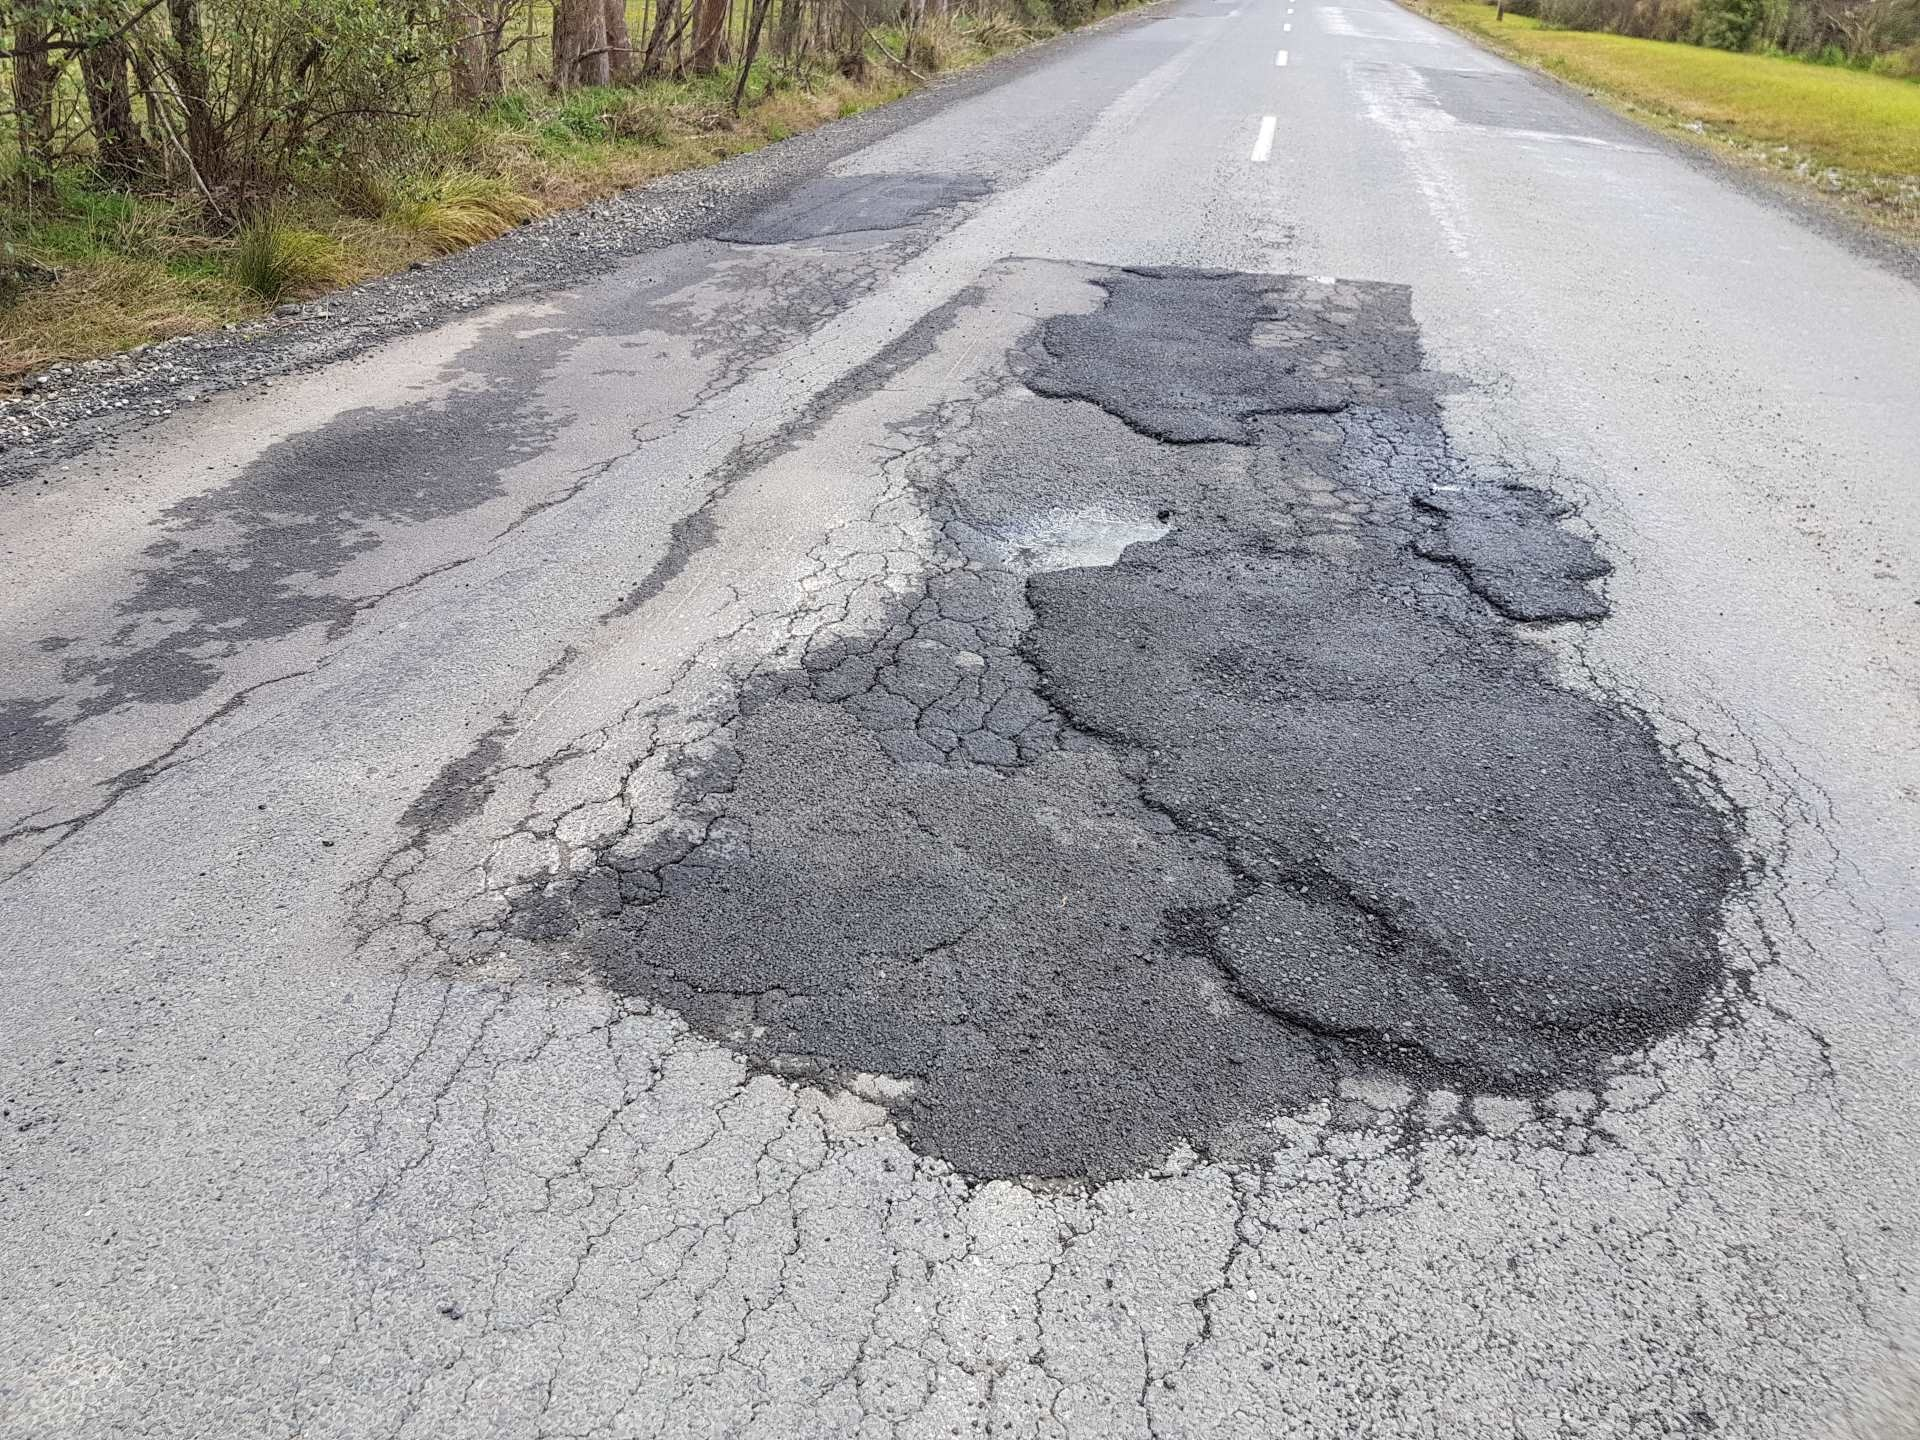pothole: (659, 303, 1448, 693)
